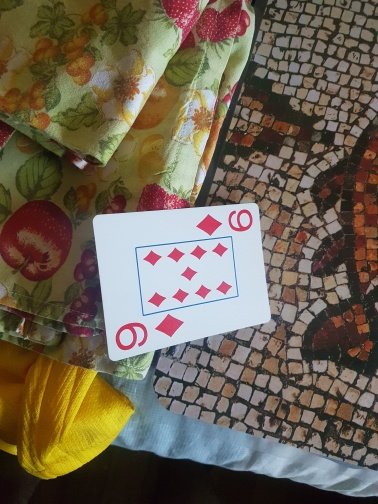nine: (93, 201, 273, 360)
